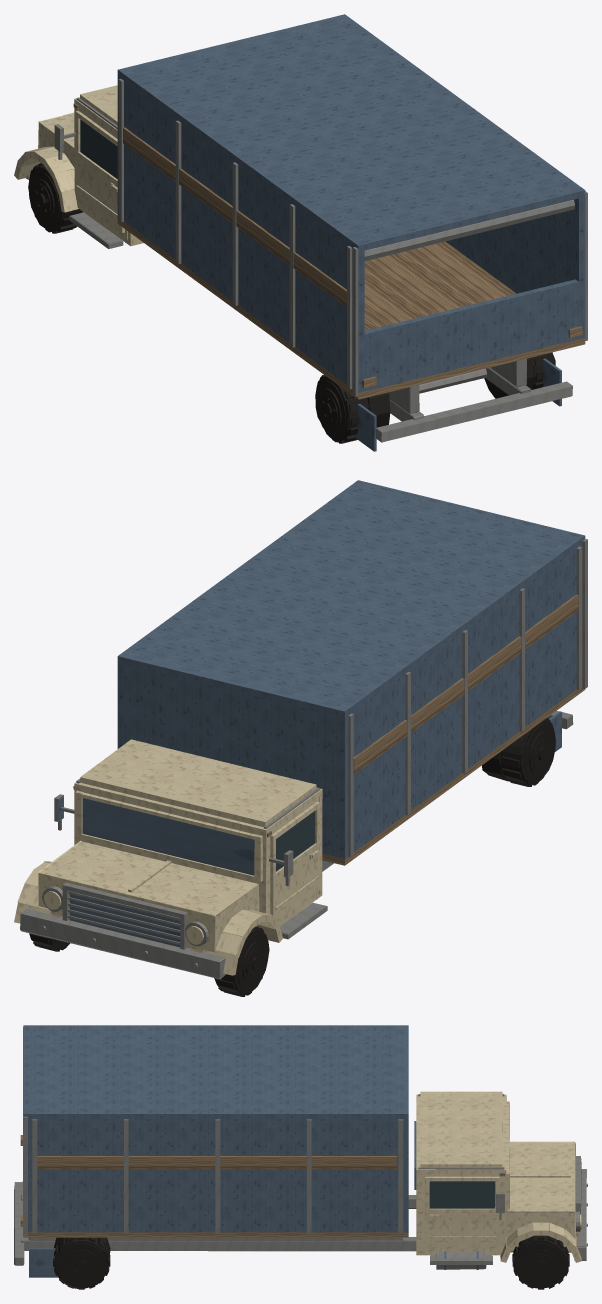
The model's file is box_truck.glb.
3 renders of one model, top to bottom at view 1: azimuth 30°, elevation 25°; view 2: azimuth 150°, elevation 25°; view 3: azimuth 270°, elevation 25°, orthographic. The views are drawn at different scales.
Visible parts, largest first — view 1: BoxTruck, Tailgate, Wheel_L2, Door_L, Wheel_L1, Glass_L, Wheel_R2; view 2: BoxTruck, Door_L, Wheel_L2, Wheel_L1, Glass_L; view 3: BoxTruck, Door_R, Wheel_R2, Wheel_R1, Glass_R.
Boxes of the visible parts, left/top/right/bottom form: BoxTruck: left=14, top=14, right=587, bottom=451; Tailgate: left=364, top=279, right=578, bottom=391; Wheel_L2: left=315, top=375, right=390, bottom=443; Door_L: left=75, top=110, right=124, bottom=232; Wheel_L1: left=28, top=163, right=82, bottom=233; Glass_L: left=80, top=119, right=117, bottom=178; Wheel_R2: left=484, top=352, right=555, bottom=398; BoxTruck: left=14, top=480, right=587, bottom=979; Door_L: left=270, top=802, right=319, bottom=920; Wheel_L2: left=482, top=718, right=555, bottom=786; Wheel_L1: left=214, top=926, right=269, bottom=996; Glass_L: left=276, top=811, right=315, bottom=871; BoxTruck: left=14, top=1025, right=587, bottom=1277; Door_R: left=425, top=1176, right=499, bottom=1248; Wheel_R2: left=53, top=1237, right=110, bottom=1289; Wheel_R1: left=512, top=1235, right=569, bottom=1289; Glass_R: left=425, top=1181, right=495, bottom=1208.
Bounding box in the file's own units: 3.11 × 2.86 × 8.26.
Materials: 6 (4 with a texture image).
